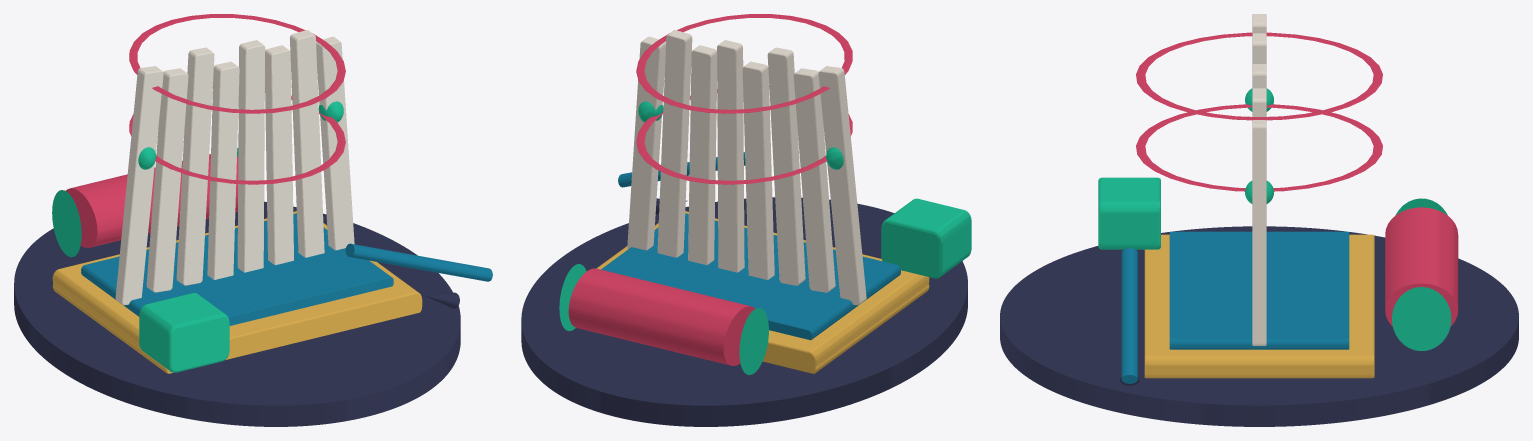
File: 0930_秦汉图鉴_云纹漆钫.glb
3 renders of one model, left to right at view 1: azimuth 30°, elevation 25°; view 2: azimuth 150°, elevation 25°; view 3: azimuth 270°, elevation 25°, orthographic.
Visible parts, largest first — view 1: card_0930; view 2: card_0930; view 3: card_0930.
Boxes of the visible parts, x1,y1,x2,y2 form: card_0930: (14, 14, 492, 426); card_0930: (521, 14, 971, 426); card_0930: (1000, 14, 1518, 426).
Bounding box in the file's own units: 1.38 × 1 × 1.66.
